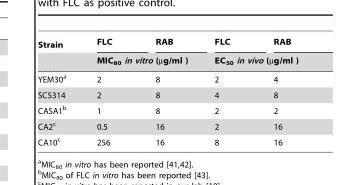table: (37, 37, 297, 146)
table column: (133, 37, 200, 146), (80, 37, 133, 146), (200, 37, 251, 146), (251, 37, 297, 146), (37, 37, 80, 146)
table column header: (37, 37, 297, 69)
table row: (37, 51, 297, 69), (37, 69, 297, 87), (37, 117, 297, 133), (37, 87, 297, 102), (37, 102, 297, 117), (37, 37, 297, 51), (37, 133, 297, 146)
table spanning cell: (80, 51, 200, 69), (200, 51, 297, 69), (37, 37, 80, 69)
